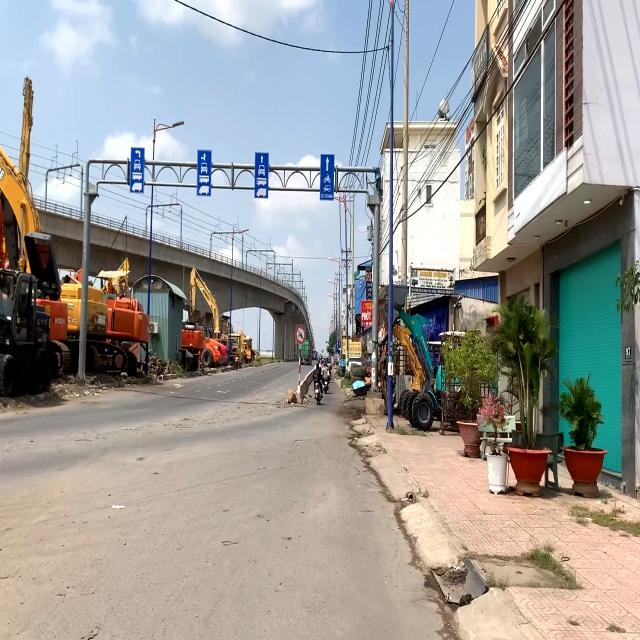bien_chi_dan: (295, 324, 306, 344)
